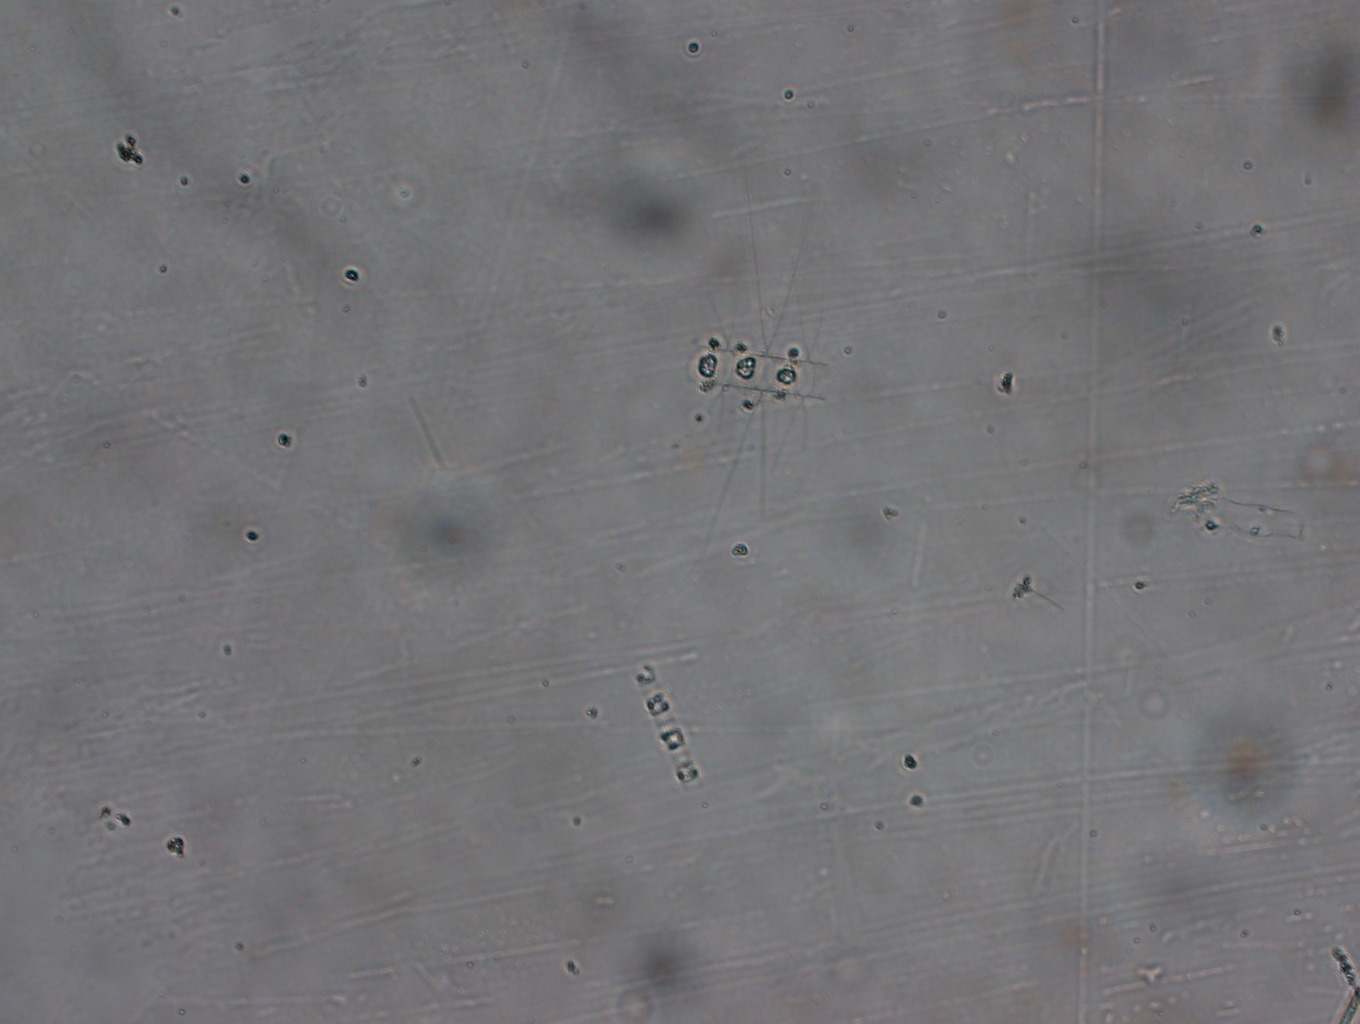chaetoceros: (691, 166, 834, 551)
skeletonema: (634, 659, 700, 790)
